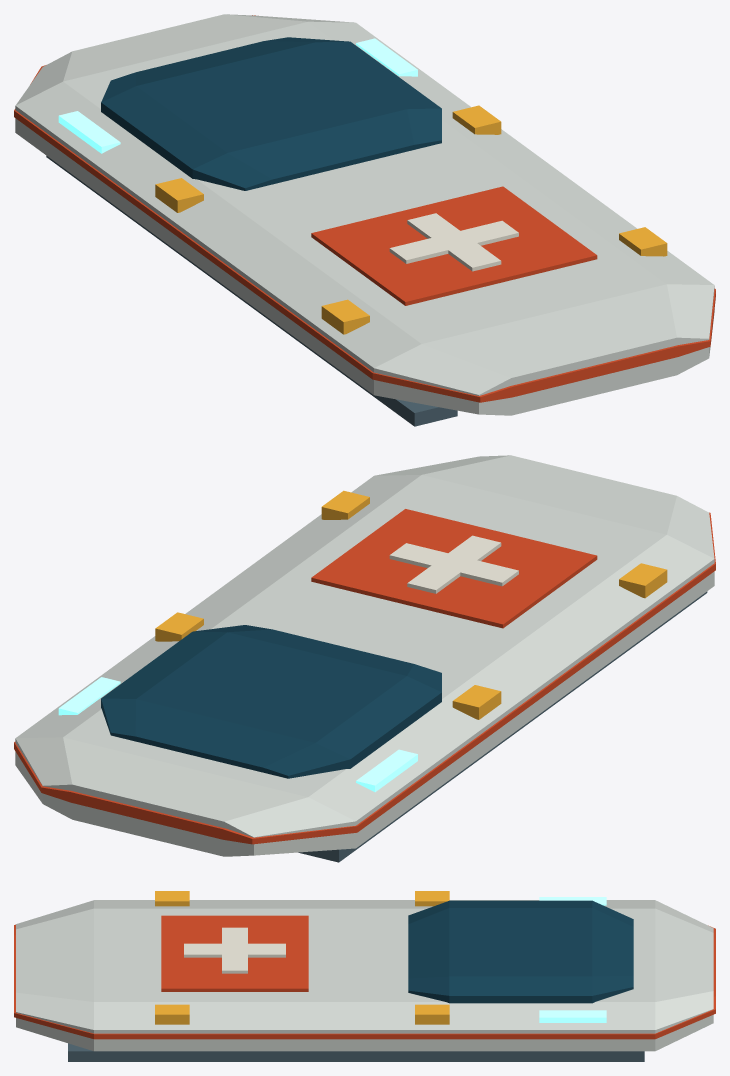
Rendered from evacuation-pod.glb.
The picture shows the model from 3 angles, top to bottom: view 1: azimuth 30°, elevation 25°; view 2: azimuth 150°, elevation 25°; view 3: azimuth 270°, elevation 25°; orthographic projection. The views are drawn at different scales.
Parts seen in each view (by area): view 1: Evacuation pod; view 2: Evacuation pod; view 3: Evacuation pod.
Part boxes in pixels (x1,y1,x2,y2): Evacuation pod: (14, 14, 715, 426); Evacuation pod: (14, 455, 715, 862); Evacuation pod: (14, 891, 715, 1061).
Size of the model in its own units: 1.43 by 0.325 by 3.24.
